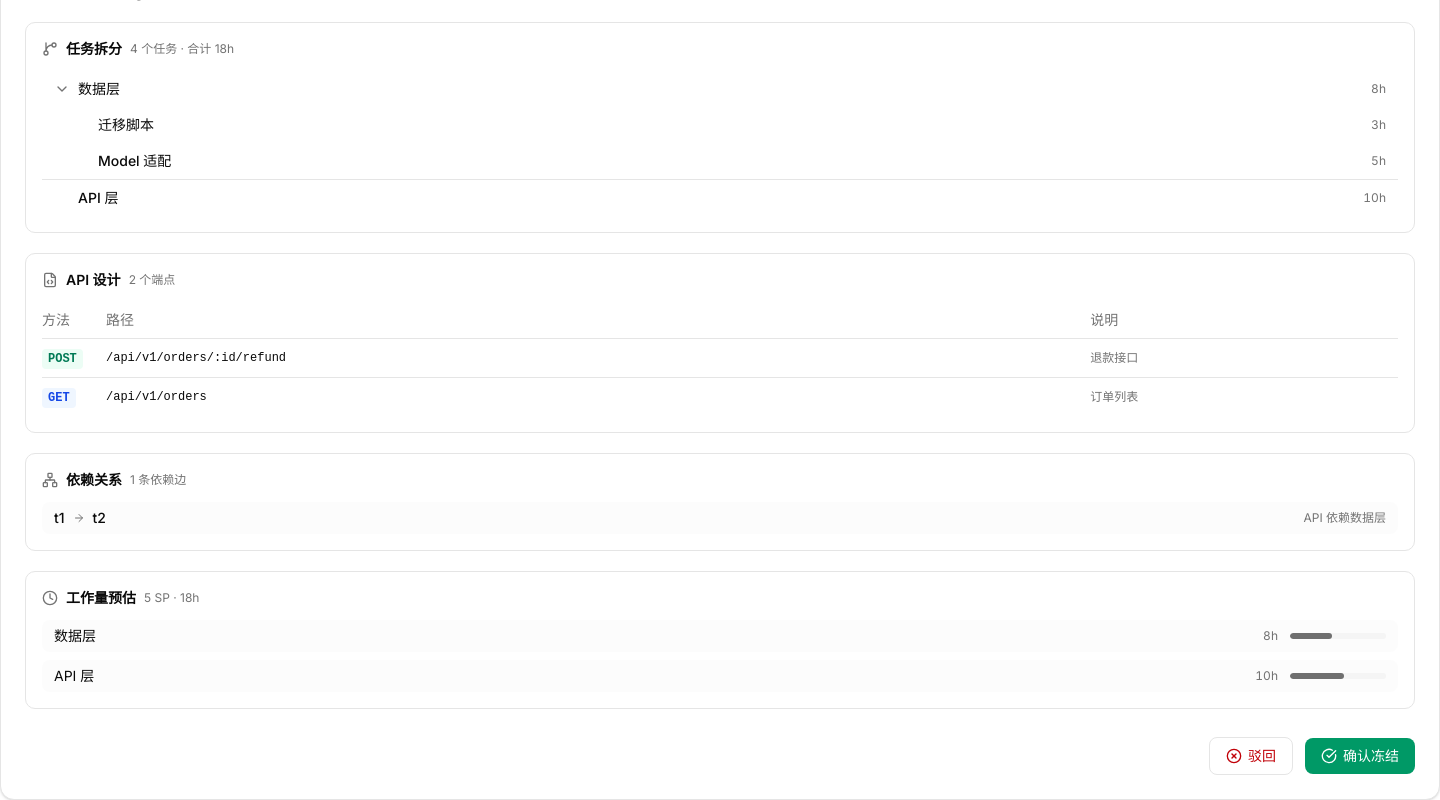
Test: PlanReviewPanel › opens confirm dialog with correct text
(page scrolled)
What coordinates should you click on to do the following:
click the button "确认冻结"
I would click on:
 (1360, 756)
Its box is [1305, 738, 1415, 774].
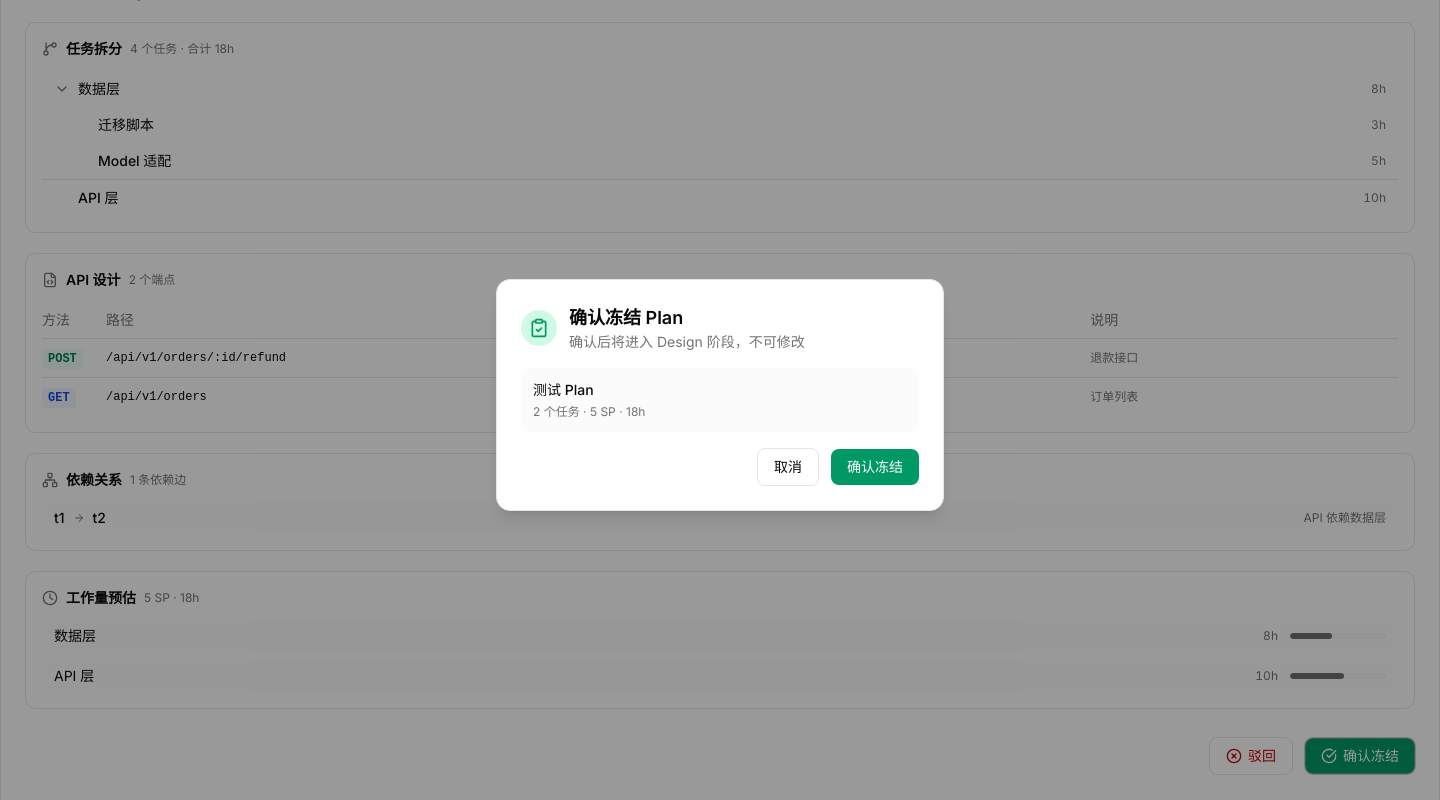
Check: the heading "确认冻结 Plan" is shown, box [569, 307, 683, 328]
Check: the text "确认后将进入 Design 阶段，不可修改" is shown, box [569, 332, 805, 352]
